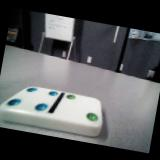domino: (0, 87, 102, 136)
